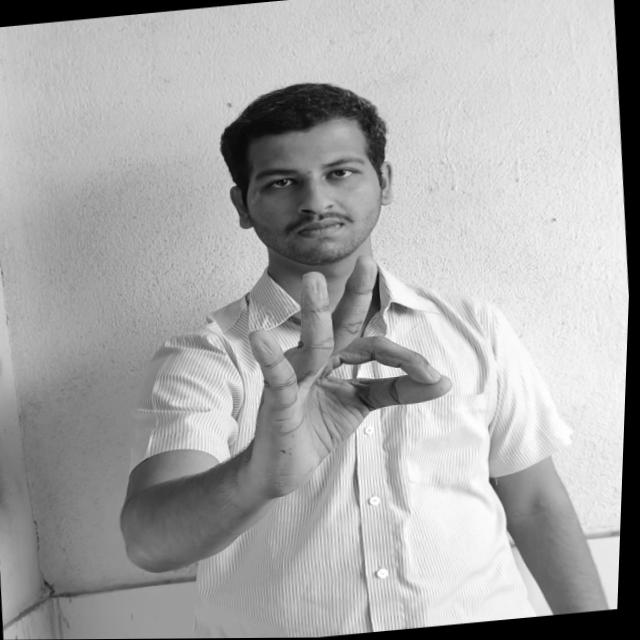Superb: (223, 245, 470, 497)
